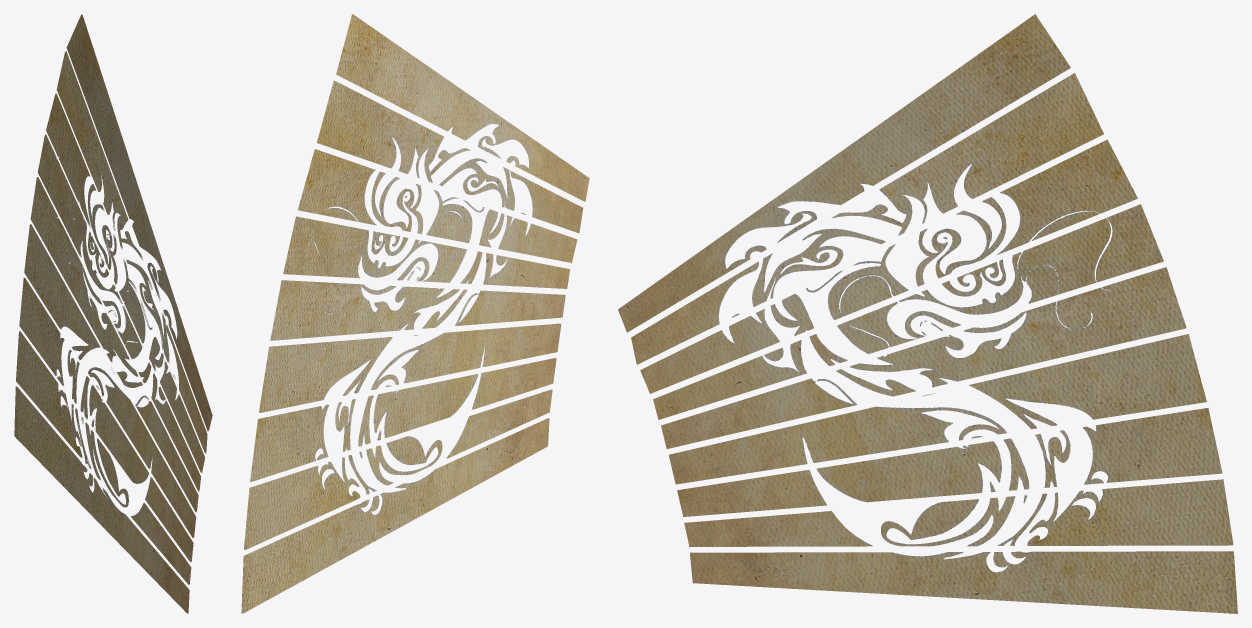
File: chin_merch_sail.dae
3 renders of one model, left to right at view 1: azimuth 30°, elevation 25°; view 2: azimuth 150°, elevation 25°; view 3: azimuth 270°, elevation 25°, orthographic. The views are drawn at different scales.
Parts seen in each view (by area): view 1: Junk_Sail; view 2: Junk_Sail; view 3: Junk_Sail.
Part boxes in pixels (box(x1,y1,x2,y2)): Junk_Sail: box(14, 14, 212, 613); Junk_Sail: box(241, 14, 589, 613); Junk_Sail: box(618, 14, 1237, 613).
Size of the model in its own units: 1.56 by 12.08 by 11.51.
